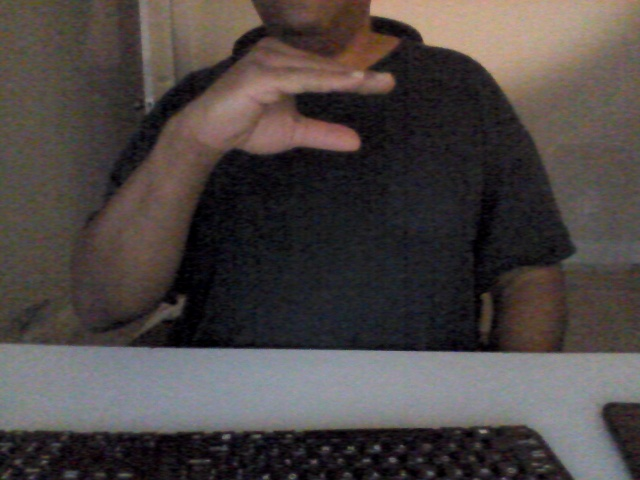no: (182, 35, 400, 165)
